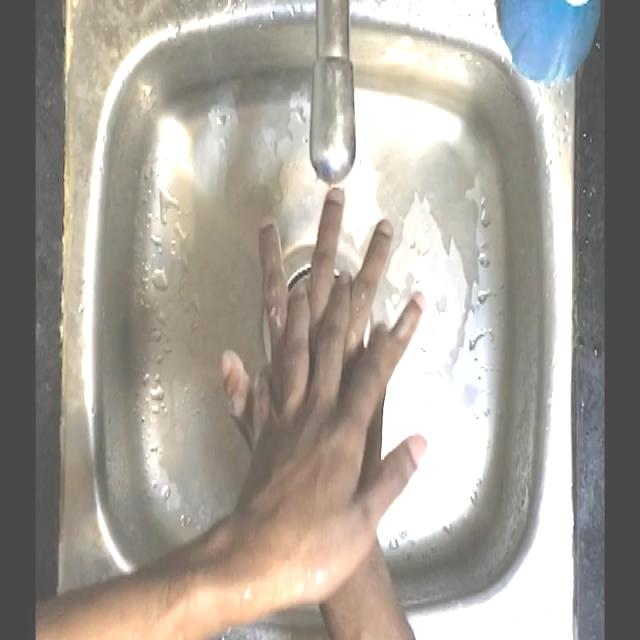step_2: (214, 168, 435, 530)
